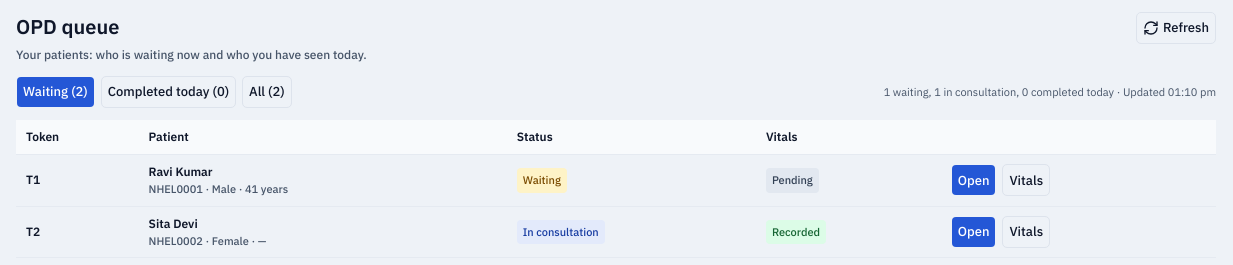
Test: OpdQueue › an empty Completed tab says nobody has been seen yet today
Click the button "Completed today (0)" at (168, 92), box [101,76,236,108]
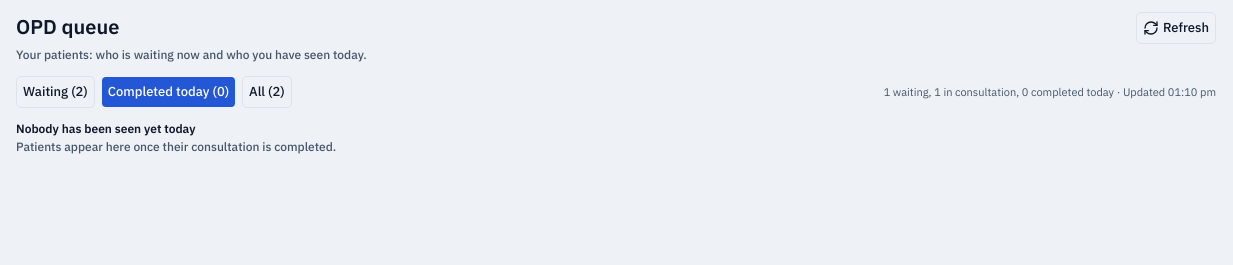
Now the text "Nobody has been seen yet today" is shown, box [16,121,196,136]
